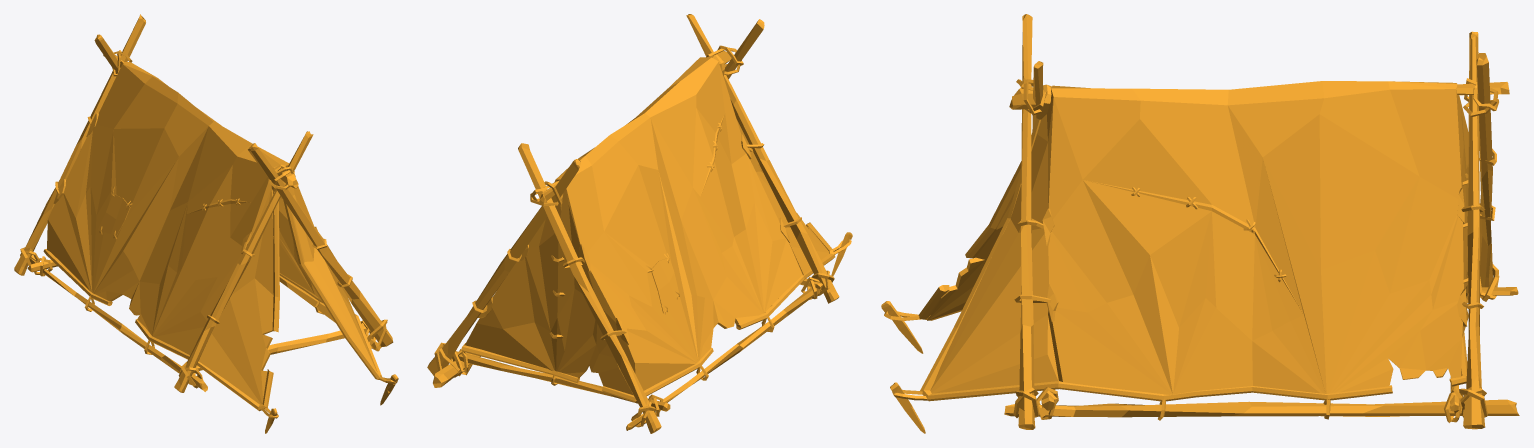
File: SM_Tent_Norseman_Striped_Repaired_Fantasy.fbx
3 views of the same model, side by side, from view 1: azimuth 30°, elevation 25°; view 2: azimuth 150°, elevation 25°; view 3: azimuth 270°, elevation 25° (orthographic). The views are drawn at different scales.
Parts seen in each view (by area): view 1: tent-norseman-striped-repaired-fantasy; view 2: tent-norseman-striped-repaired-fantasy; view 3: tent-norseman-striped-repaired-fantasy.
Boxes of the visible parts, <box> form: tent-norseman-striped-repaired-fantasy: <box>14,14,398,433</box>; tent-norseman-striped-repaired-fantasy: <box>427,14,852,433</box>; tent-norseman-striped-repaired-fantasy: <box>881,14,1519,433</box>.
Bounding box in the file's own units: 2.12 × 2.46 × 3.96.
